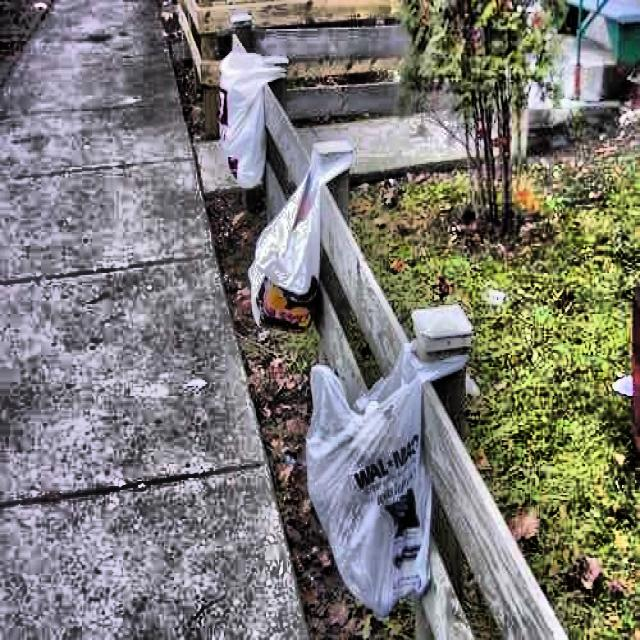Plastic: (297, 360, 456, 621), (247, 150, 344, 340), (191, 34, 282, 186)
